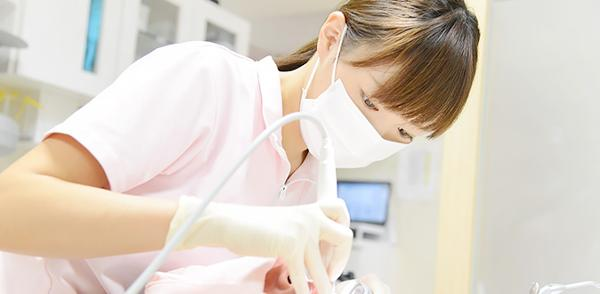mask: (300, 85, 404, 168)
